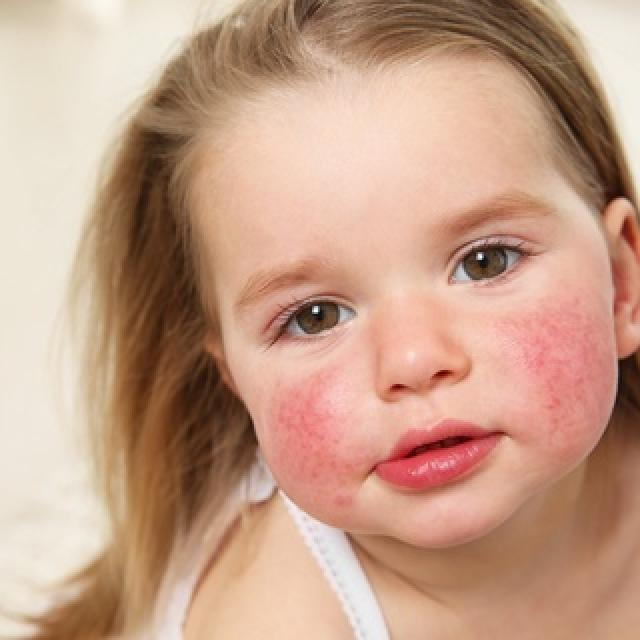Rosacea: (521, 317, 614, 430), (260, 396, 352, 490)
